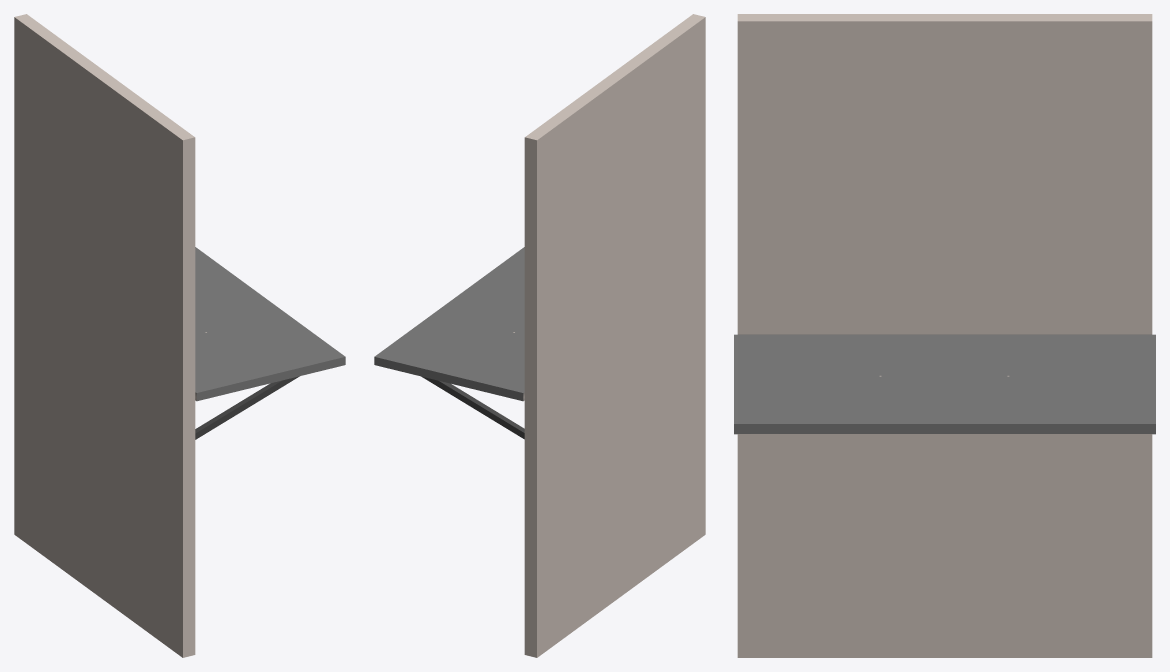
File: shelf.glb
3 renders of one model, left to right at view 1: azimuth 30°, elevation 25°; view 2: azimuth 150°, elevation 25°; view 3: azimuth 270°, elevation 25°, orthographic. The views are drawn at different scales.
Visible parts, largest first — view 1: Shelf_bake; view 2: Shelf_bake; view 3: Shelf_bake.
Boxes of the visible parts, x1,y1,x2,y2 form: Shelf_bake: (14, 14, 345, 657); Shelf_bake: (374, 14, 705, 657); Shelf_bake: (734, 14, 1155, 657).
Bounding box in the file's own units: 0.6523 × 2 × 1.2.
1 material, 1 textured.
